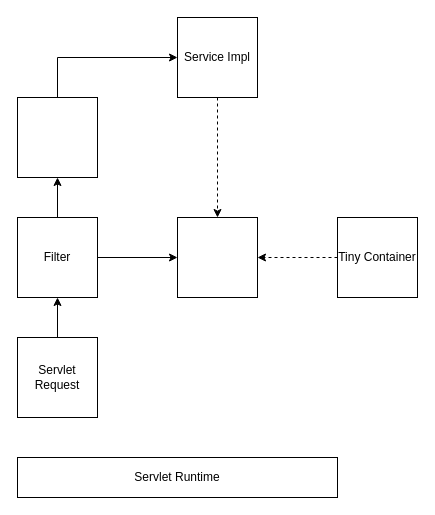
Some shapes in this 435 by 515 pixel diagram are drawn without their labels. The shapes that lost their labels are listed below. From the top down, each one's centre as x and y in pixels, then its label:
point (57, 137): Service Runtime
point (217, 257): Thread Local
